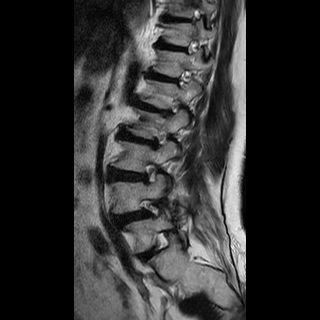RFS0: (137, 157, 161, 189)
RFS1: (134, 193, 163, 222)
